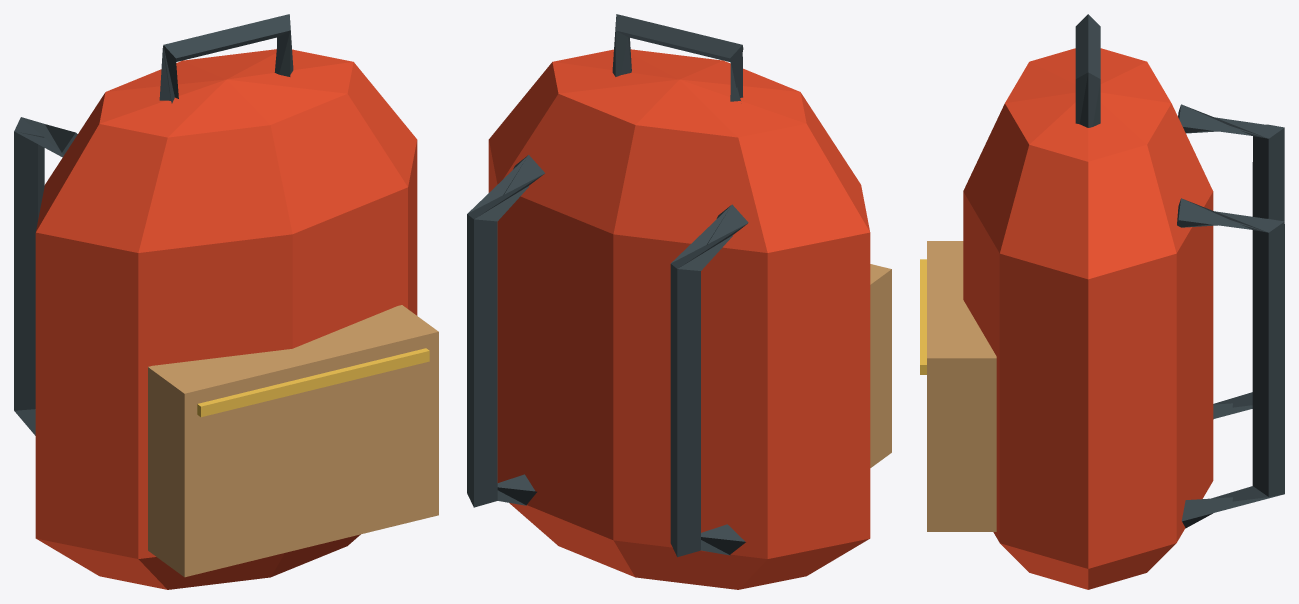
File: backpack.glb
3 views of the same model, side by side, from view 1: azimuth 30°, elevation 25°; view 2: azimuth 150°, elevation 25°; view 3: azimuth 270°, elevation 25° (orthographic). The views are drawn at different scales.
Parts seen in each view (by area): view 1: backpack; view 2: backpack; view 3: backpack.
Boxes of the visible parts, bbox=[...] form: backpack: bbox=[14, 14, 438, 589]; backpack: bbox=[467, 14, 891, 589]; backpack: bbox=[920, 14, 1284, 589].
Size of the model in its own units: 0.3 by 0.3877 by 0.2625.
